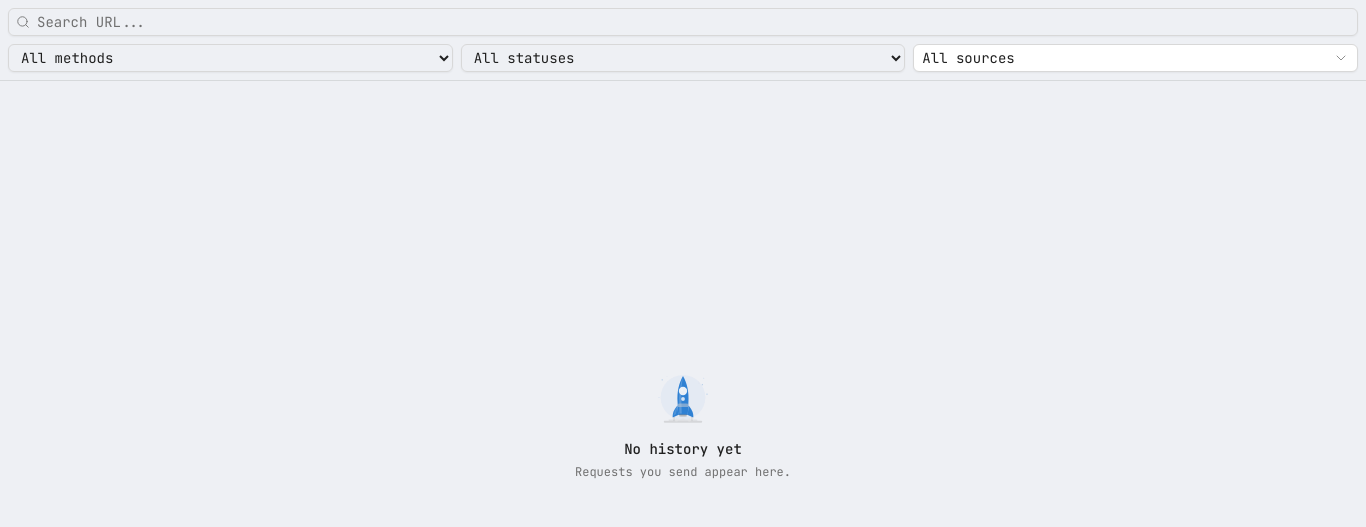
Test: HistoryPanel empty states › clears the filters and reloads the full list
Step 1. Type "orders" into the field with placeholder "Search URL..." → (683,22), box [8,8,1358,36]
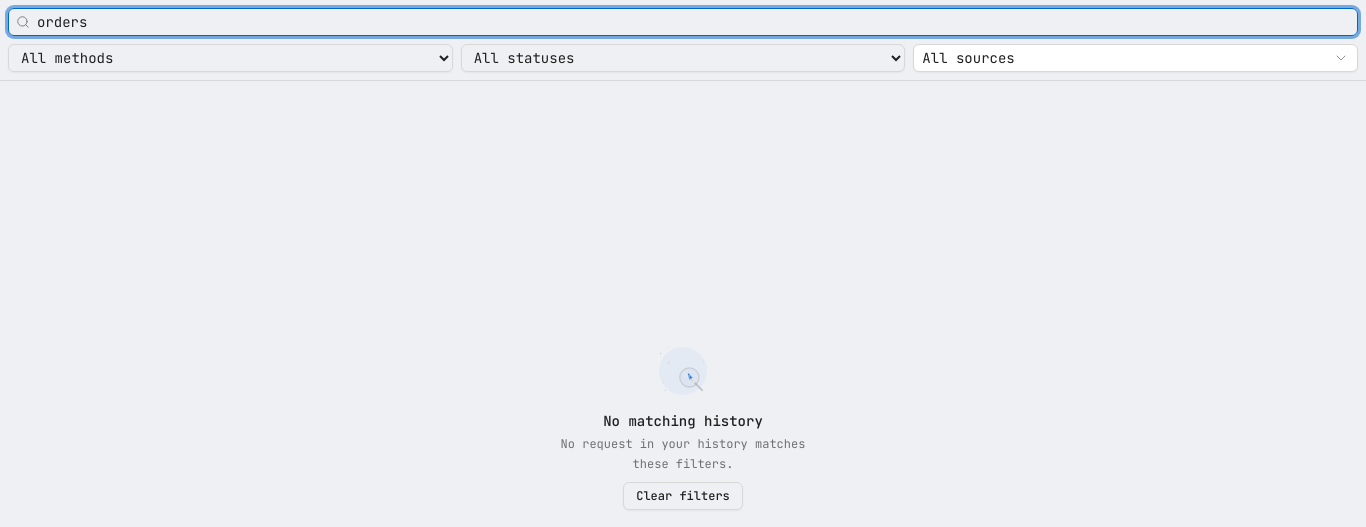
Step 2. Click the button "Clear filters" → (683,496), box [623,482,743,510]
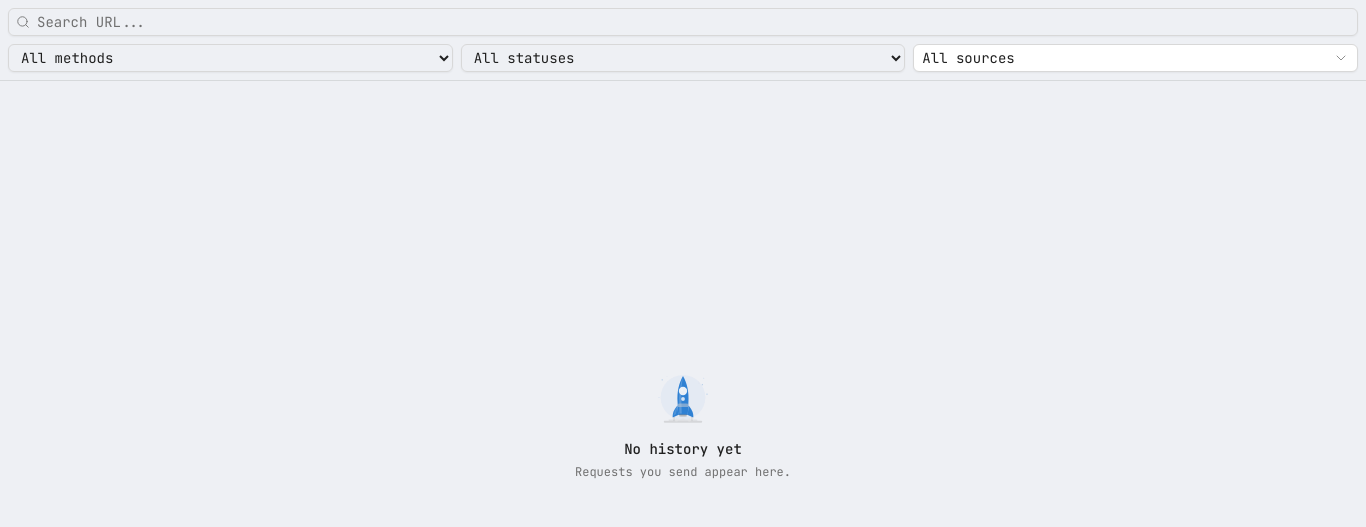
Expected: the field with placeholder "Search URL..." is empty, [8,8,1358,36]
